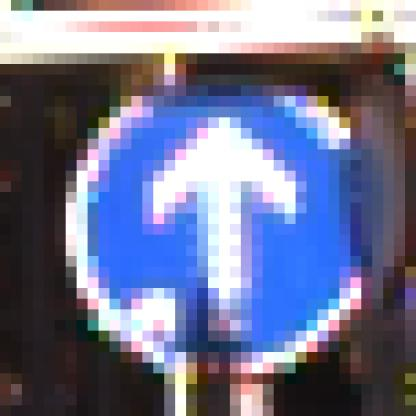AheadOnly: (56, 54, 362, 364)
